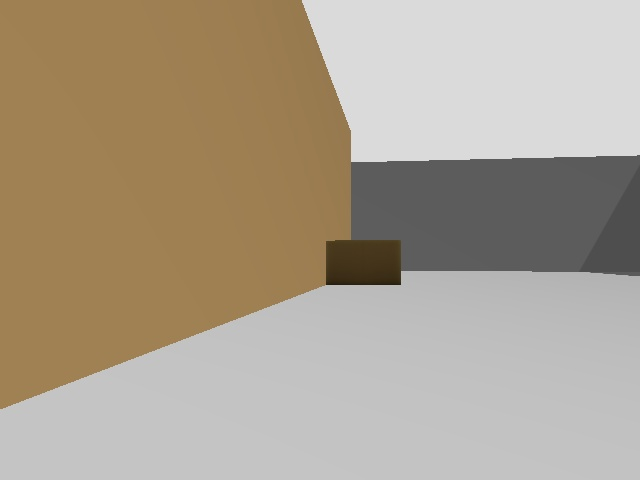package: (330, 245, 401, 286)
